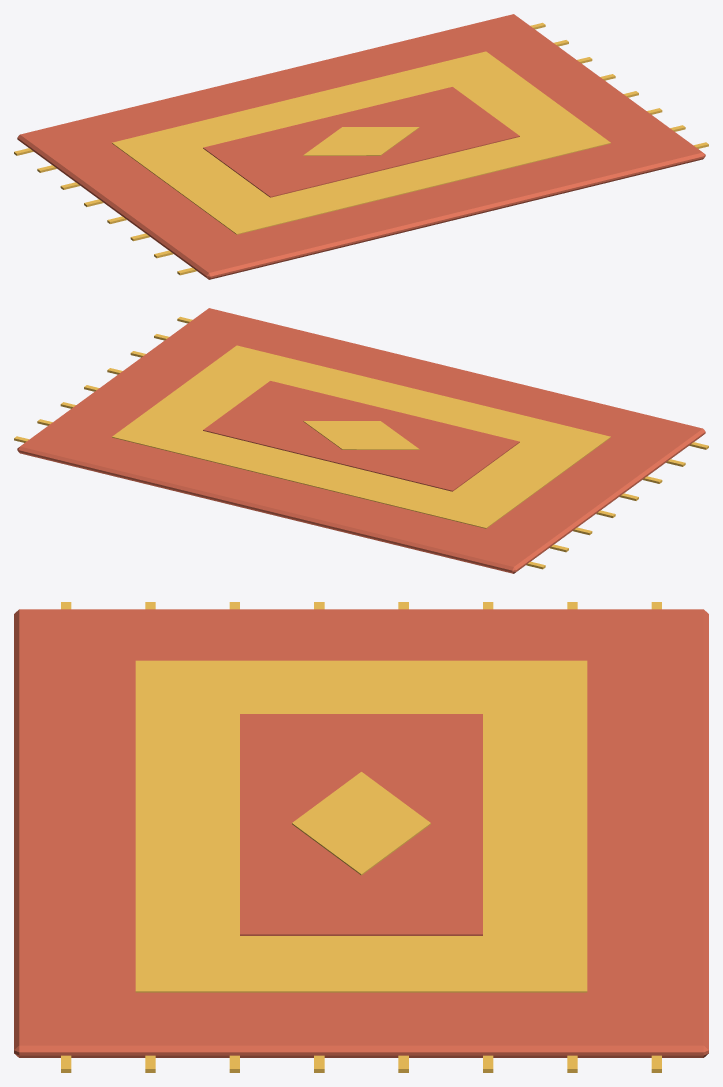
File: rug.glb
The picture shows the model from 3 angles, top to bottom: view 1: azimuth 30°, elevation 25°; view 2: azimuth 150°, elevation 25°; view 3: azimuth 270°, elevation 25°; orthographic projection. The views are drawn at different scales.
Parts seen in each view (by area): view 1: rug-m; view 2: rug-m; view 3: rug-m.
Boxes of the visible parts, x1=… form: rug-m: x1=14, y1=14, x2=708, y2=279; rug-m: x1=14, y1=308, x2=708, y2=573; rug-m: x1=14, y1=602, x2=708, y2=1072.
Bounding box in the file's own units: 3.18 × 0.0545 × 2.
